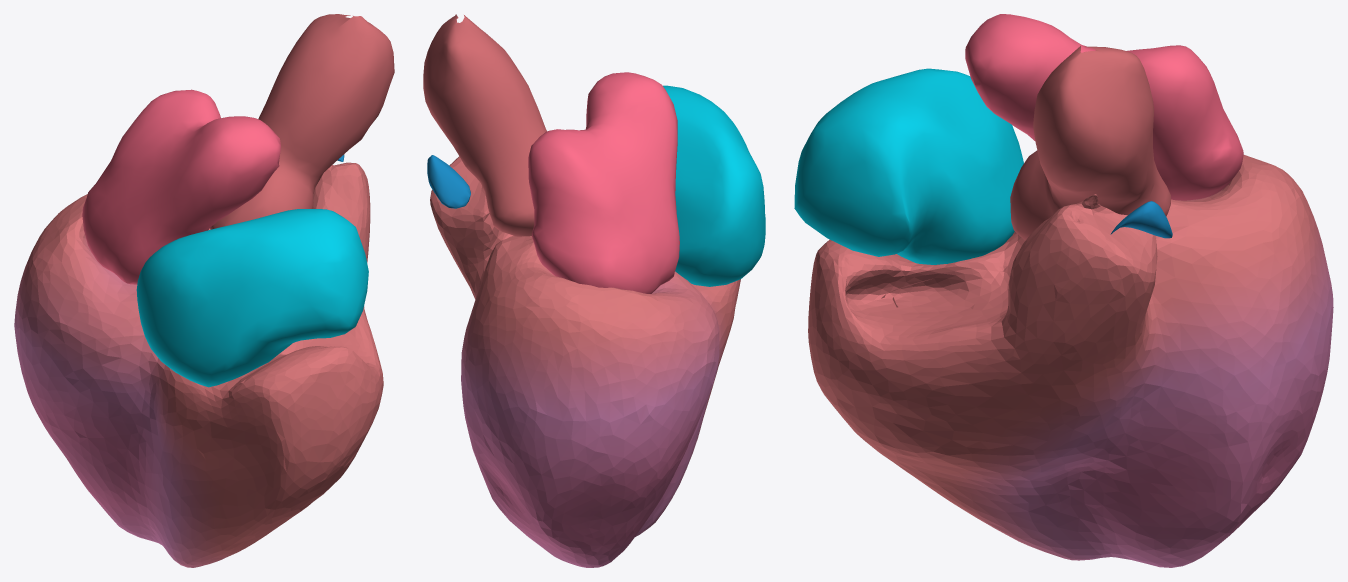
The model's file is frame_22.glb.
The picture shows the model from 3 angles, left to right: view 1: azimuth 30°, elevation 25°; view 2: azimuth 150°, elevation 25°; view 3: azimuth 270°, elevation 25°; orthographic projection. The views are drawn at different scales.
Visible parts, largest first — view 1: Renderer Node; view 2: Renderer Node; view 3: Renderer Node.
Boxes of the visible parts, x1=… form: Renderer Node: x1=14, y1=14, x2=394, y2=567; Renderer Node: x1=423, y1=14, x2=765, y2=567; Renderer Node: x1=794, y1=14, x2=1333, y2=567.
Bounding box in the file's own units: 101 × 153 × 122.
